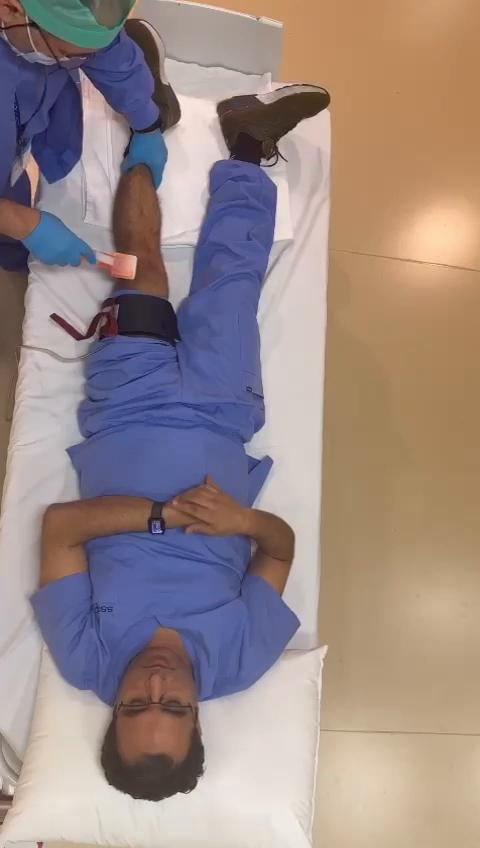patient: (35, 86, 328, 799)
prepstick: (94, 250, 137, 279)
tourniquet: (50, 293, 181, 344)
